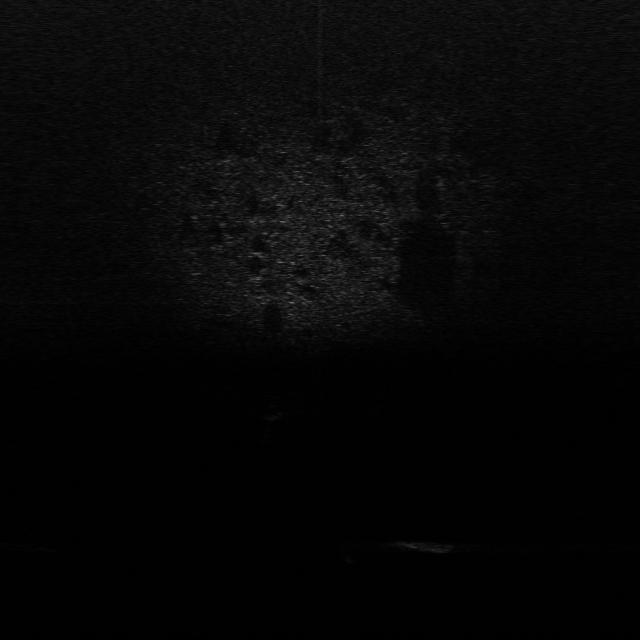ball: (260, 402, 286, 422)
metal bucket: (390, 536, 454, 558)
